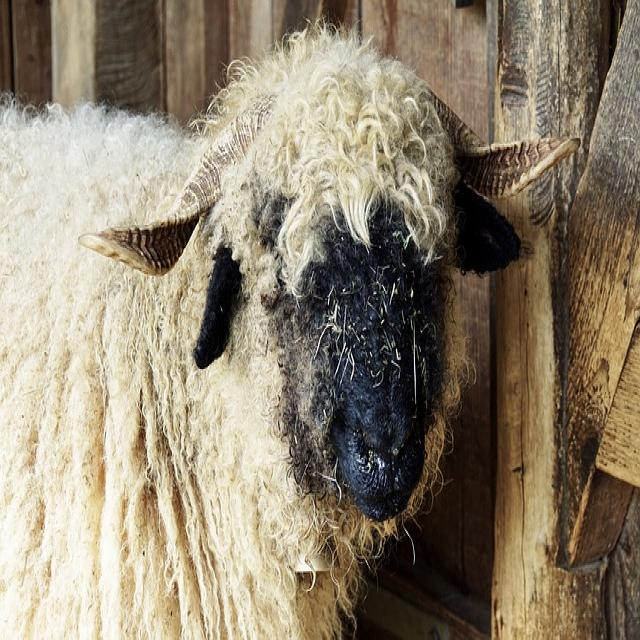goat: (0, 29, 576, 640)
